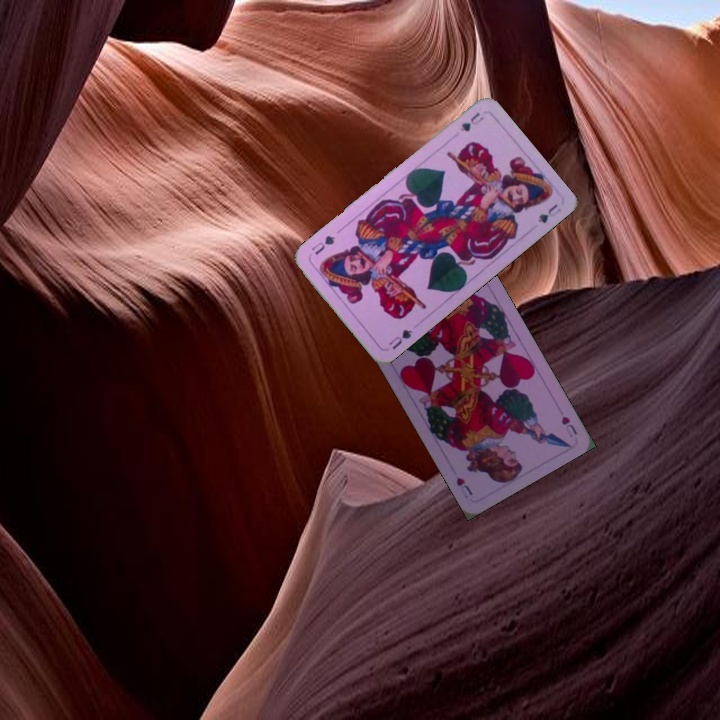GU: (384, 325, 415, 352), (456, 108, 486, 134)
HU: (557, 412, 580, 440)
